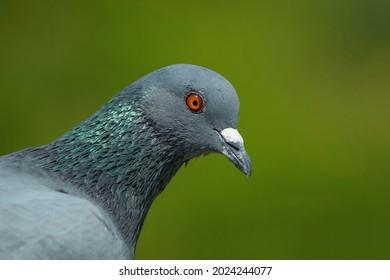Flying Rat: (1, 70, 253, 261)
